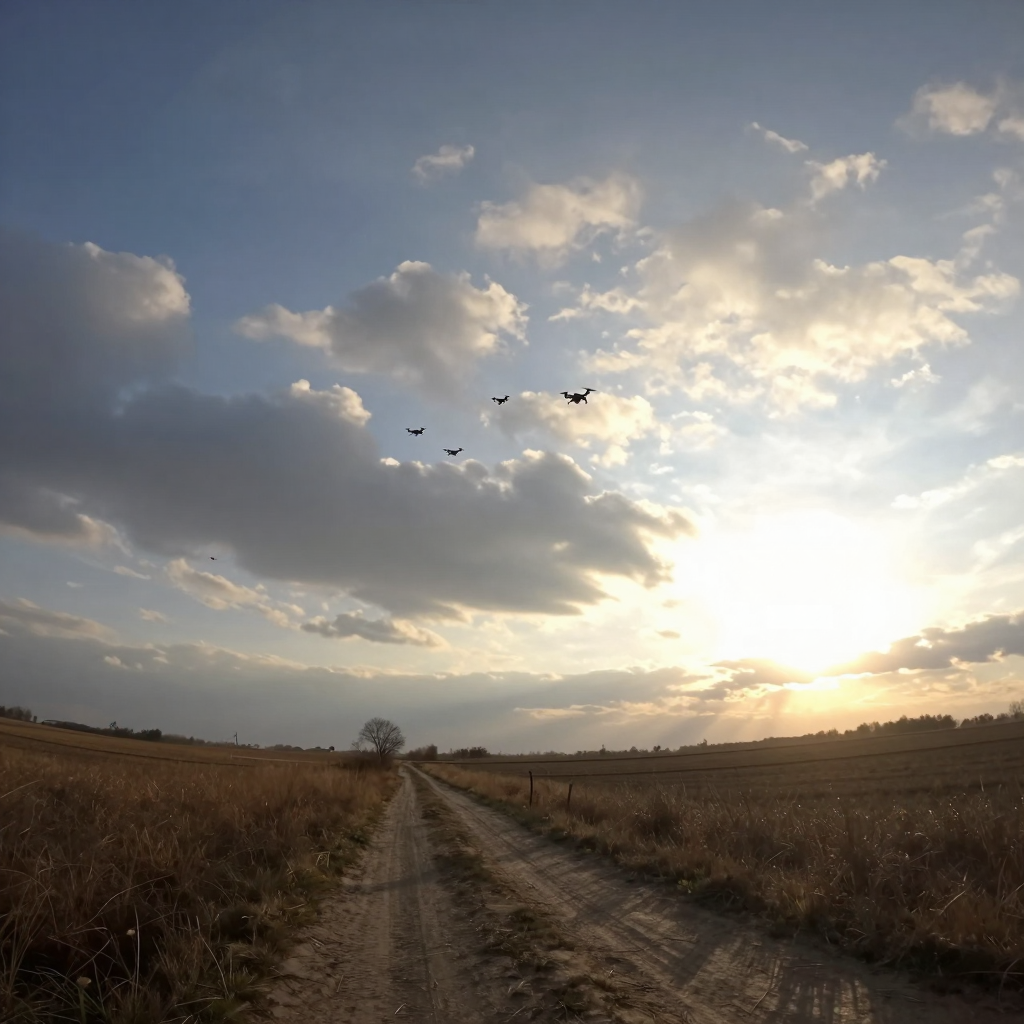drone: (559, 383, 601, 407), (405, 427, 426, 437), (442, 448, 464, 456), (491, 396, 510, 405)
